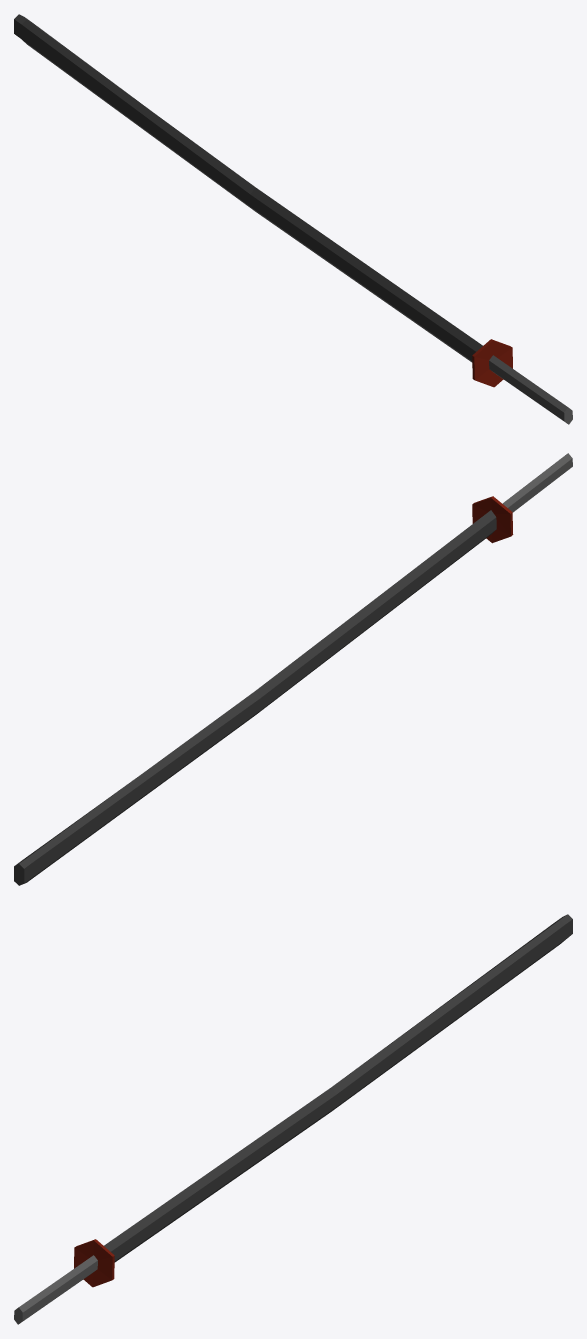
Rendered from sword_sheathed.glb.
3 views of the same model, one above another, from view 1: azimuth 30°, elevation 25°; view 2: azimuth 150°, elevation 25°; view 3: azimuth 330°, elevation 25° (orthographic).
Parts seen in each view (by area): view 1: sheath, sword; view 2: sheath, sword; view 3: sheath, sword.
Boxes of the visible parts, box(x1,y1,x2,y2) form: sheath: box(14, 14, 482, 362); sword: box(472, 339, 572, 424); sheath: box(14, 510, 496, 885); sword: box(472, 453, 572, 543); sheath: box(104, 914, 572, 1262); sword: box(14, 1239, 114, 1324).
Size of the model in its own units: 0.0468 by 0.0541 by 1.16.
Materials: 2 (2 with a texture image).
